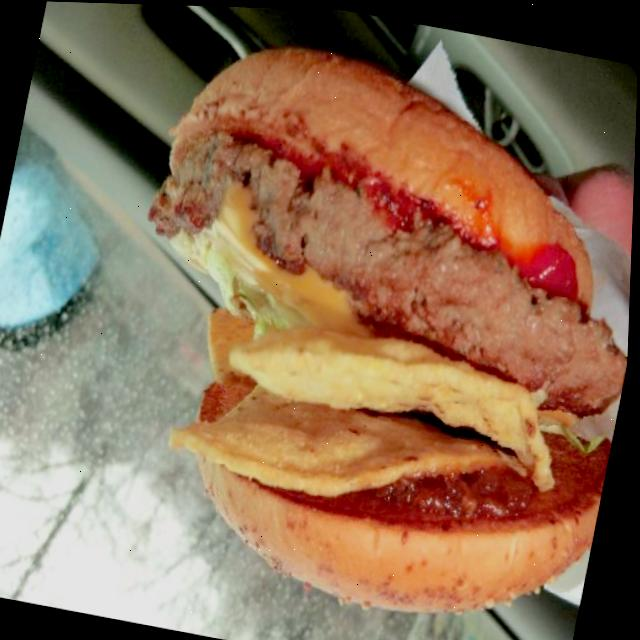汉堡快餐: (56, 10, 640, 640)
